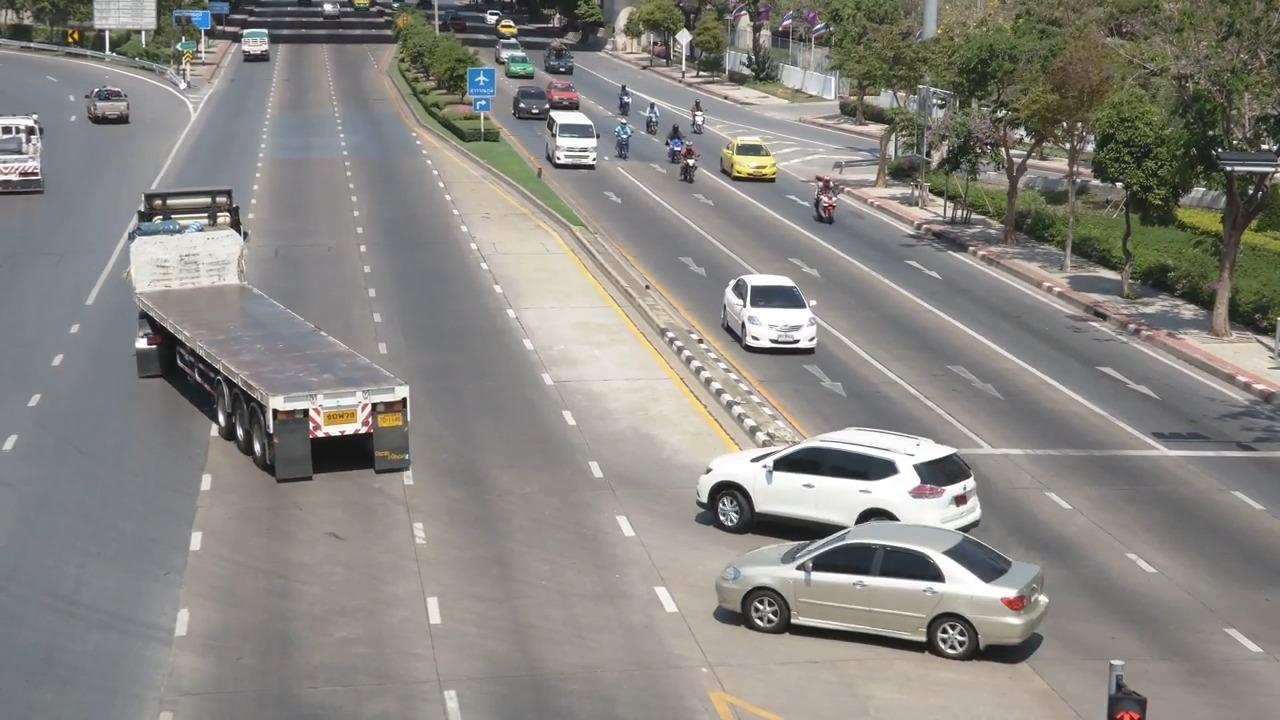CAR: (693, 512, 1073, 662), (681, 400, 995, 550), (712, 262, 824, 360), (0, 99, 62, 210), (716, 127, 788, 190), (544, 102, 604, 168), (86, 77, 151, 137), (232, 13, 286, 73), (496, 36, 538, 82), (545, 40, 577, 80)
HGV_BUS: (113, 195, 440, 495)
MOTOR: (804, 173, 849, 232), (639, 97, 666, 145), (673, 144, 702, 186), (685, 100, 709, 133), (614, 116, 632, 157)
